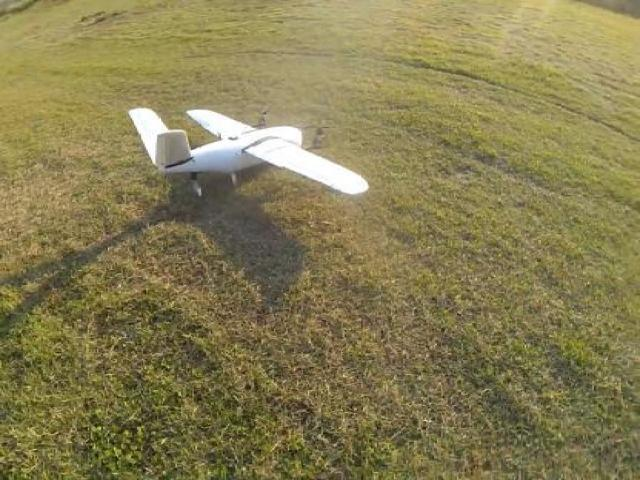uav: (122, 90, 381, 225)
